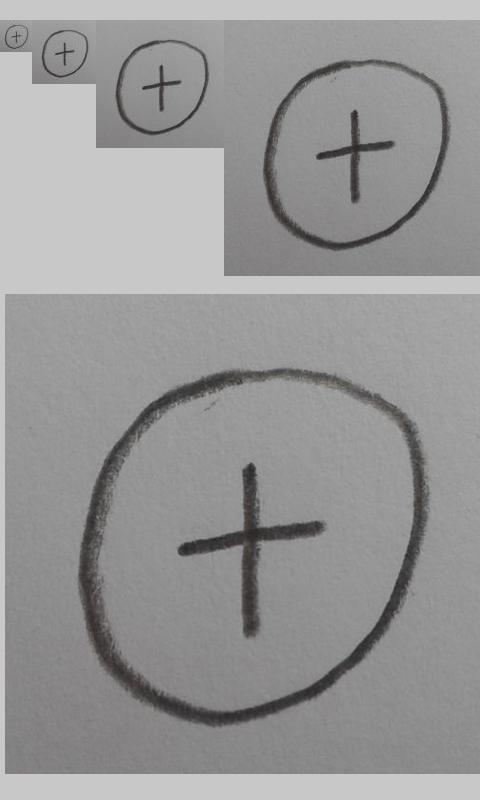button: (79, 366, 430, 726), (262, 59, 450, 250), (115, 39, 210, 136), (41, 29, 89, 78), (4, 24, 29, 49)
